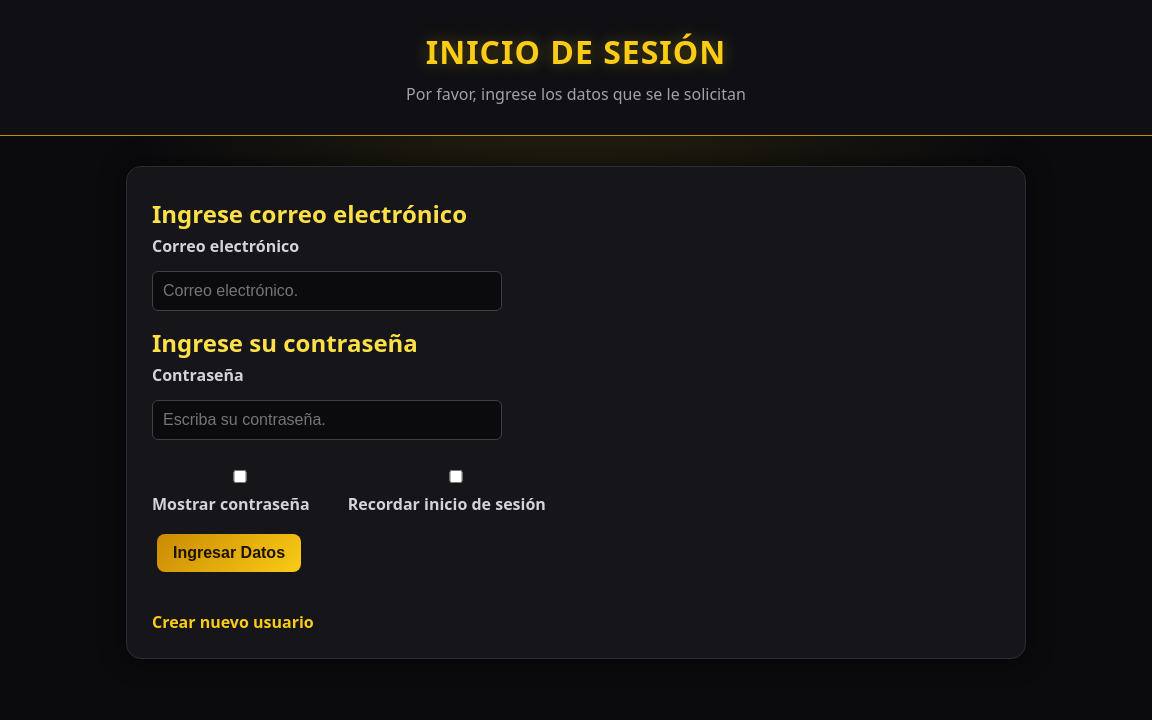
Test: Componente Login › muestra error si los campos están vacíos
The width and height of the screenshot is (1152, 720).
What coordinates should you click on to do the following:
click the button "Ingresar Datos"
I would click on:
 (229, 553)
Its box is [157, 534, 301, 572].
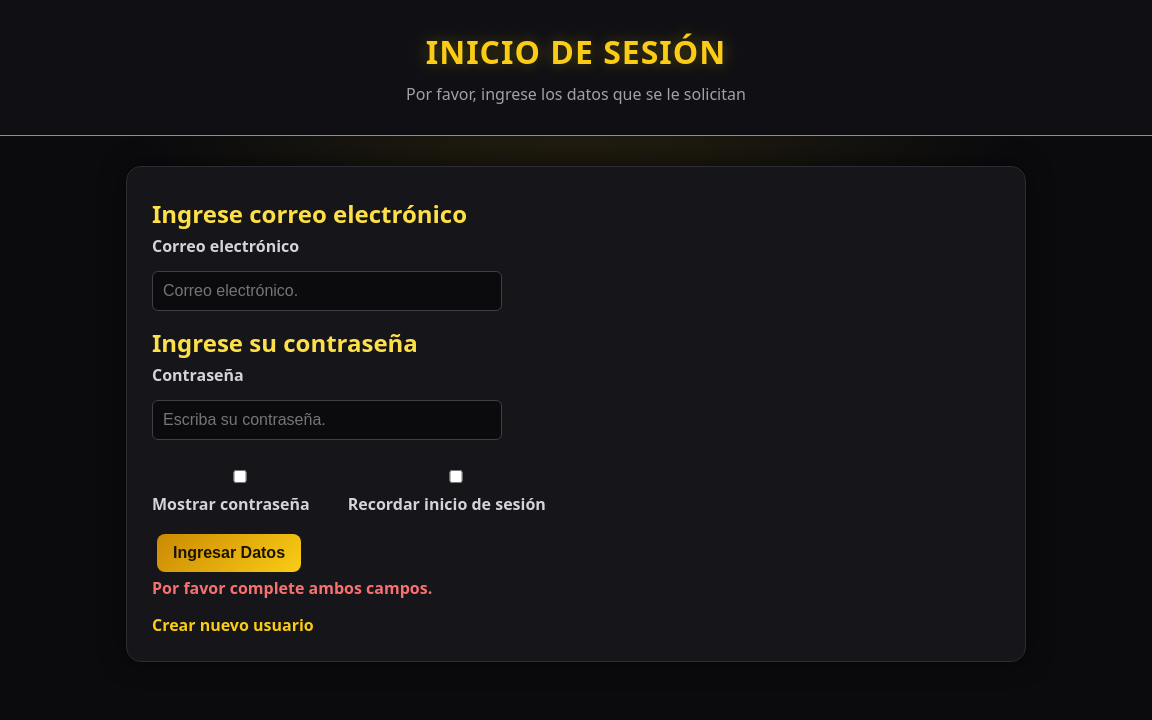
Expected: the text "Por favor complete ambos campos." is shown, [152, 577, 432, 599]
